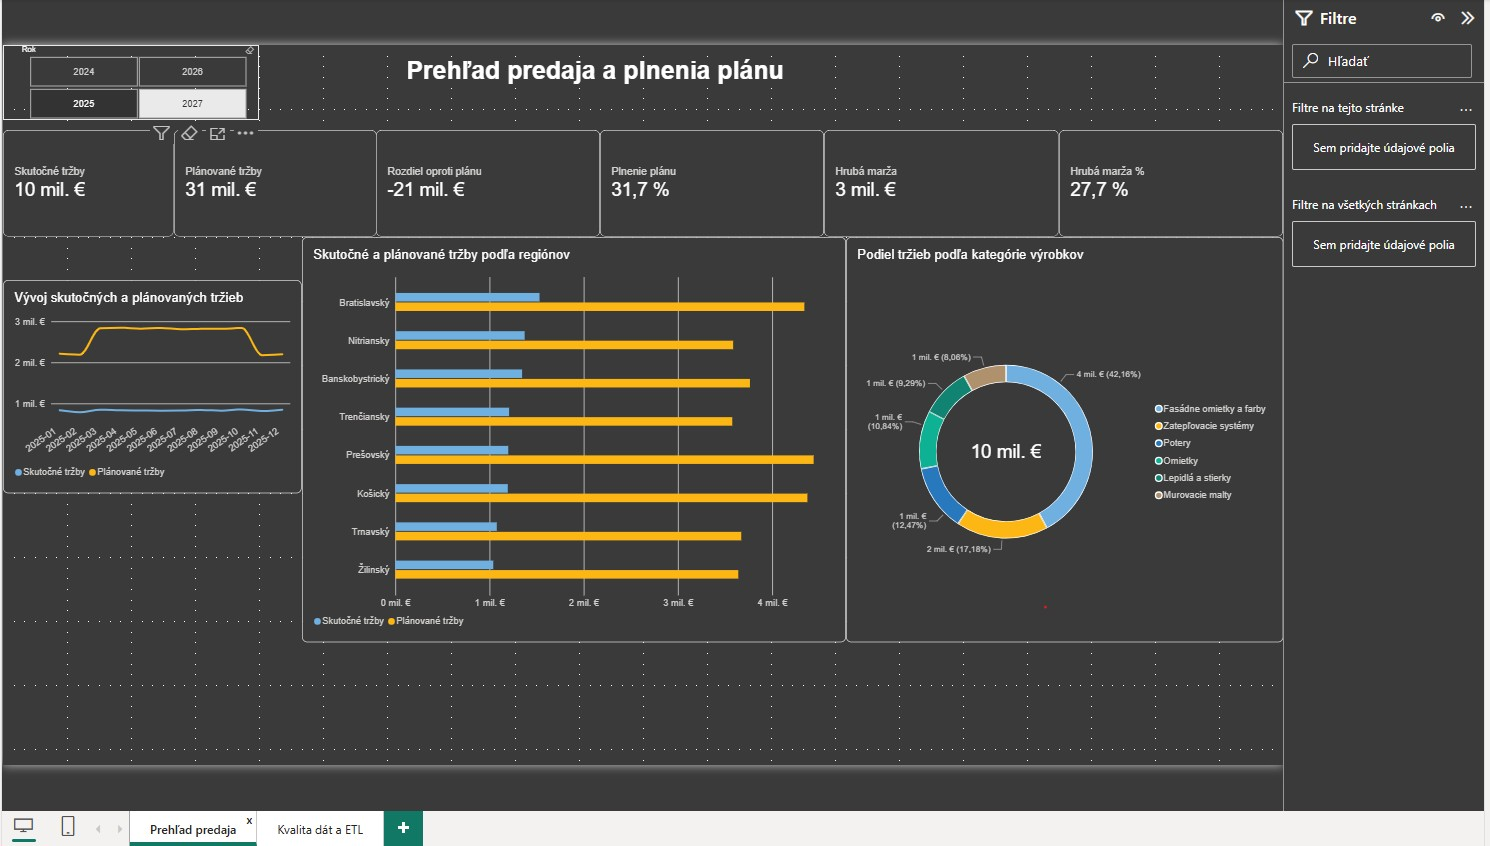

The page's visual inventory and layout, read from the dashboard file:
{"tool":"powerbi","page":{"name":"Prehľad predaja","canvas":[1920,1080],"ordinal":0},"visuals":[{"type":"cardVisual","fields":{"Data":["_Measures.Actual Revenue"]},"box":[0,128,256,160],"z":0},{"type":"cardVisual","fields":{"Data":["_Measures.Budget Revenue"]},"box":[256,128,304,160],"z":1000},{"type":"slicer","fields":{"Values":["DimDate.Year"]},"box":[0,0,384,112],"z":2000},{"type":"cardVisual","fields":{"Data":["_Measures.Budget Achievement %"]},"box":[896,128,336,160],"z":3000},{"type":"cardVisual","fields":{"Data":["_Measures.Budget Variance"]},"box":[560,128,336,160],"z":4000},{"type":"lineChart","title":"Vývoj skutočných a plánovaných tržieb","fields":{"Category":["DimDate.YearMonth"],"Y":["_Measures.Skutočné tržby","_Measures.Plánované tržby"]},"box":[0,352,448,320],"z":5000},{"type":"clusteredBarChart","title":"Skutočné a plánované tržby podľa regiónov","fields":{"Category":["DimRegion.RegionName"],"Y":["_Measures.Skutočné tržby","_Measures.Plánované tržby"]},"box":[448,288,816,608],"z":6000},{"type":"donutChart","title":"Podiel tržieb podľa kategórie výrobkov","fields":{"Category":["DimProductCategory.CategoryName"],"Y":["_Measures.Skutočné tržby"]},"box":[1264,288,656,608],"z":7000},{"type":"cardVisual","fields":{"Data":["_Measures.Hrubá marža"]},"box":[1232,128,352,160],"z":8000},{"type":"cardVisual","fields":{"Data":["_Measures.Hrubá marža %"]},"box":[1584,128,336,160],"z":9000},{"type":"textbox","box":[0,810,480,270],"z":10000},{"type":"textbox","box":[528,16,720,64],"z":10001}]}

Visuals, with their boxes on the page's 1920x1080 design canvas (x1, y1, x2, y2). These are canvas units, not pixel positions in the 1490x846 screenshot, which may show the page scaled, cropped or inside an application window:
cardVisual - _Measures.Actual Revenue: [x1=0, y1=128, x2=256, y2=288]
cardVisual - _Measures.Budget Revenue: [x1=256, y1=128, x2=560, y2=288]
slicer - DimDate.Year: [x1=0, y1=0, x2=384, y2=112]
cardVisual - _Measures.Budget Achievement %: [x1=896, y1=128, x2=1232, y2=288]
cardVisual - _Measures.Budget Variance: [x1=560, y1=128, x2=896, y2=288]
"Vývoj skutočných a plánovaných tržieb" lineChart: [x1=0, y1=352, x2=448, y2=672]
"Skutočné a plánované tržby podľa regiónov" clusteredBarChart: [x1=448, y1=288, x2=1264, y2=896]
"Podiel tržieb podľa kategórie výrobkov" donutChart: [x1=1264, y1=288, x2=1920, y2=896]
cardVisual - _Measures.Hrubá marža: [x1=1232, y1=128, x2=1584, y2=288]
cardVisual - _Measures.Hrubá marža %: [x1=1584, y1=128, x2=1920, y2=288]
textbox: [x1=0, y1=810, x2=480, y2=1080]
textbox: [x1=528, y1=16, x2=1248, y2=80]
